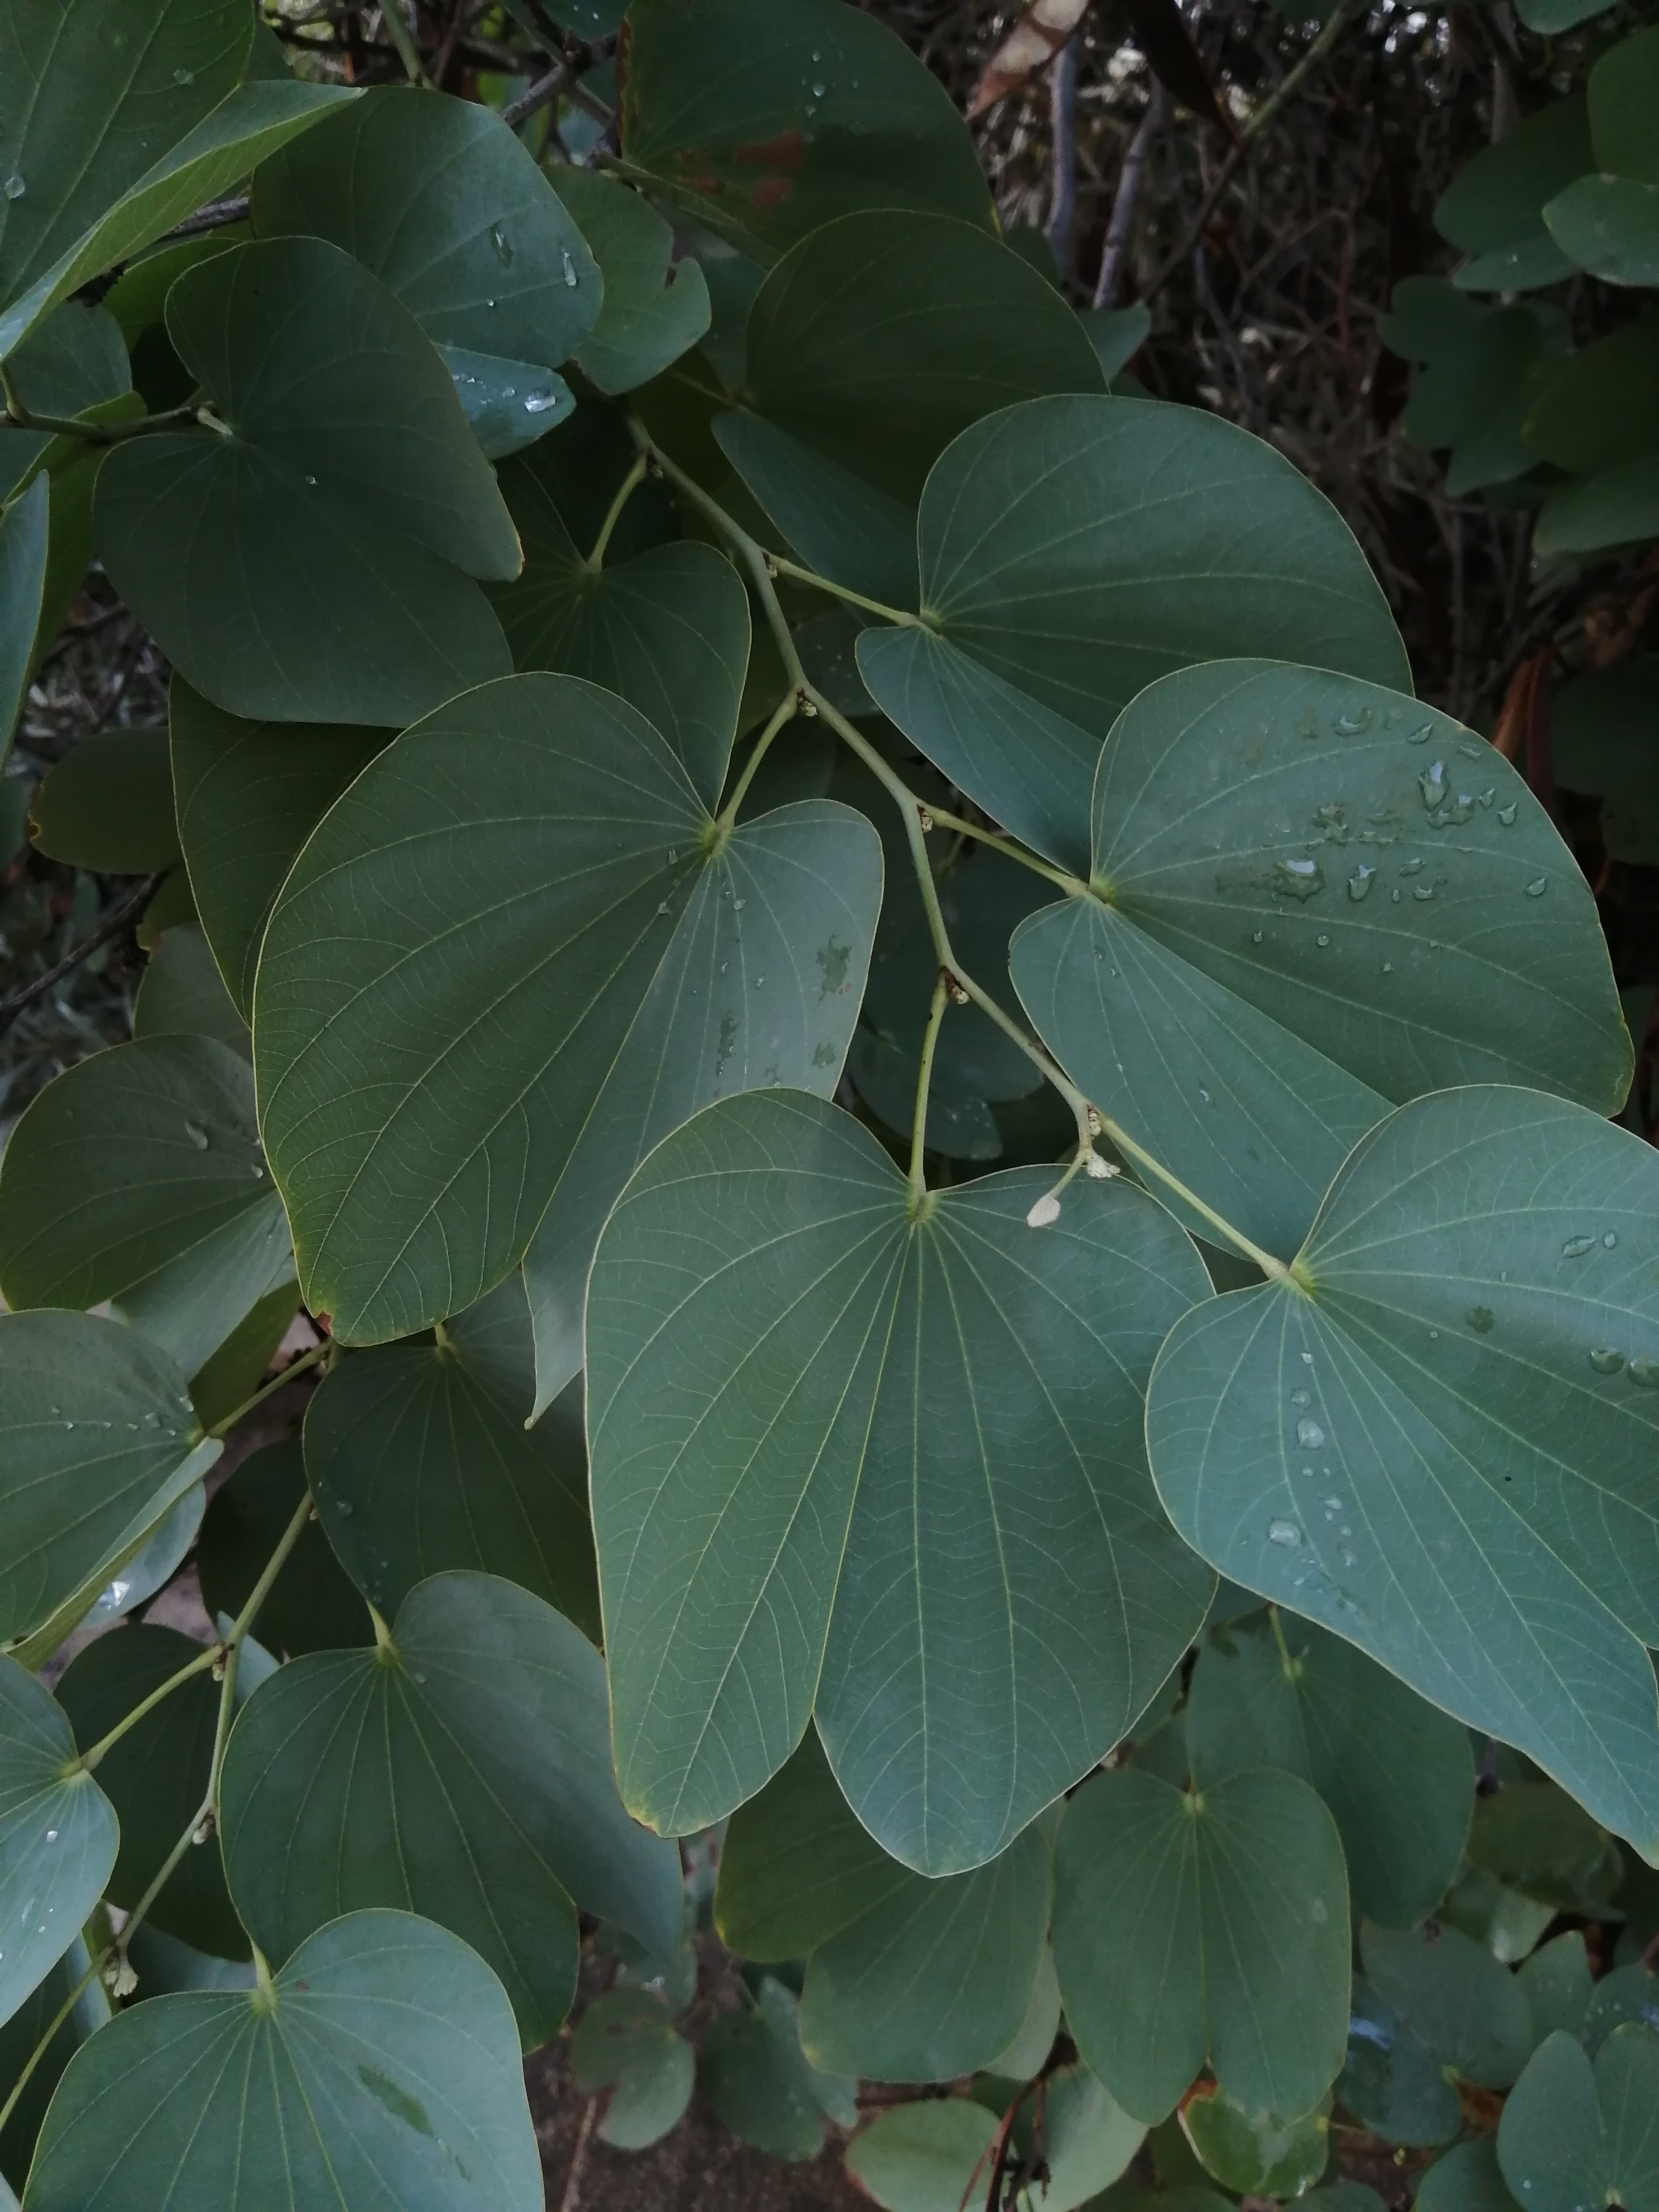healthy: (1134, 1094, 1659, 1944), (545, 1167, 1208, 1832), (981, 596, 1628, 1268), (234, 770, 918, 1332), (42, 235, 586, 770), (845, 401, 1469, 855), (131, 1575, 713, 2013), (664, 160, 1162, 637), (0, 1015, 396, 1386), (1032, 1778, 1384, 2127)
